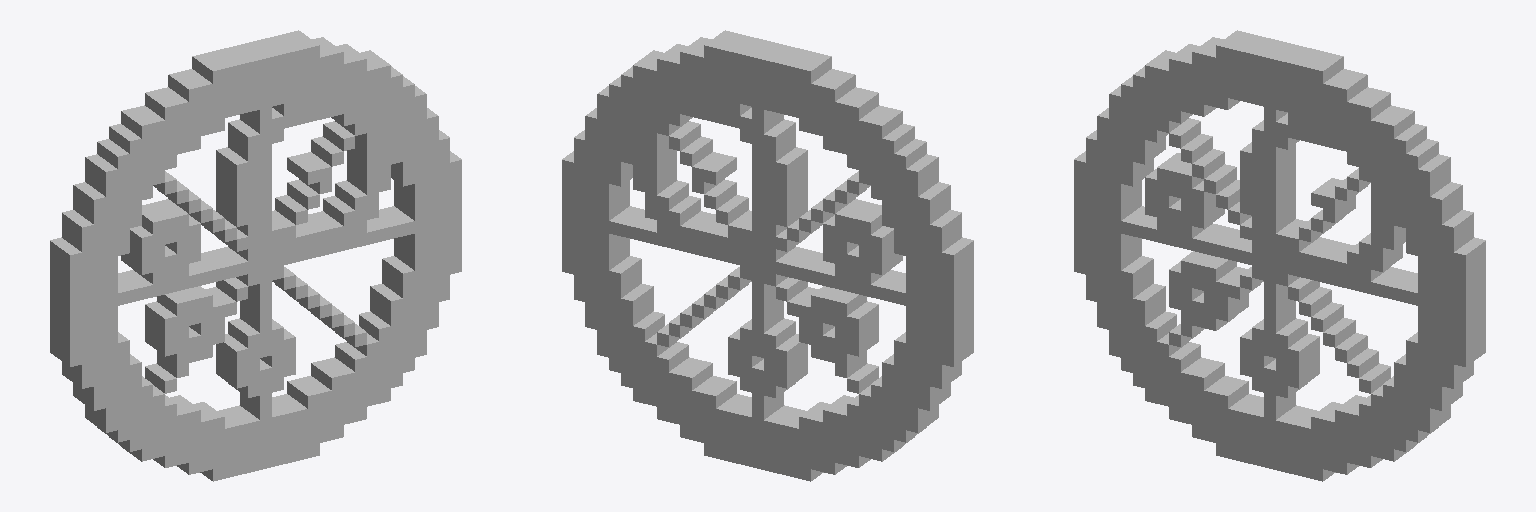
Rendered from gear4.obj.
The picture shows the model from 3 angles: view 1: azimuth 30°, elevation 25°; view 2: azimuth 150°, elevation 25°; view 3: azimuth 330°, elevation 25°; orthographic projection.
Visible parts, largest first — view 1: default; view 2: default; view 3: default.
Part boxes in pixels (left/top/right/bottom): default: left=50, top=30, right=461, bottom=481; default: left=562, top=30, right=973, bottom=481; default: left=1074, top=30, right=1485, bottom=481.
Size of the model in its own units: 33 by 33 by 3.